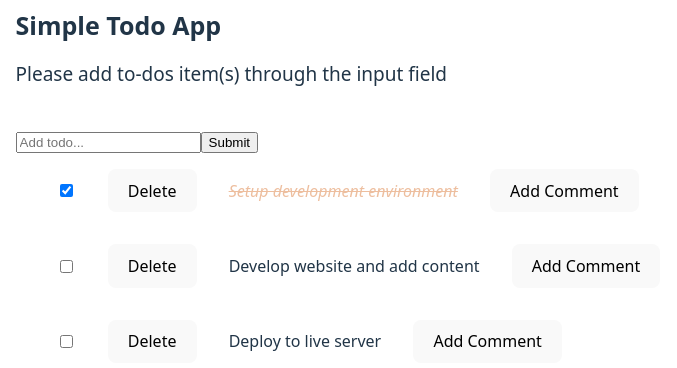
TodoContainer › deletes a todo item
Click the button "Delete" next to "Setup development environment". click: (152,191)
box: top-left (108, 169), bottom-right (197, 212)
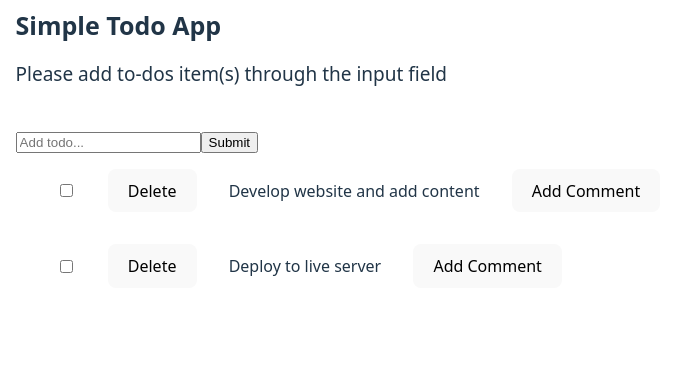
Now the number of list items is 2, box top-left (56, 169), bottom-right (660, 212); top-left (60, 244), bottom-right (562, 288)
